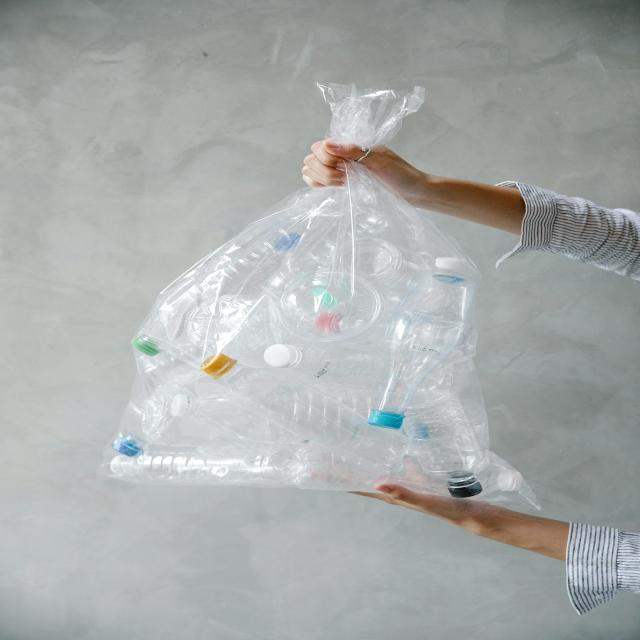plastic: (218, 235, 454, 463)
